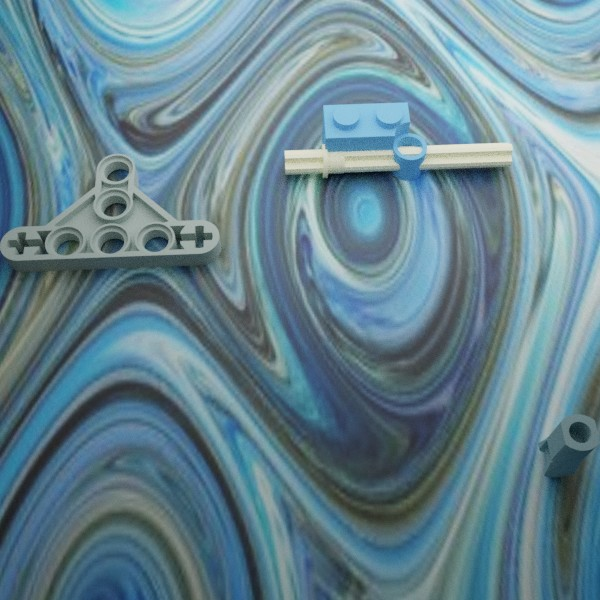lego: (0, 153, 221, 272), (284, 142, 512, 178), (322, 102, 427, 180), (538, 414, 600, 477)
